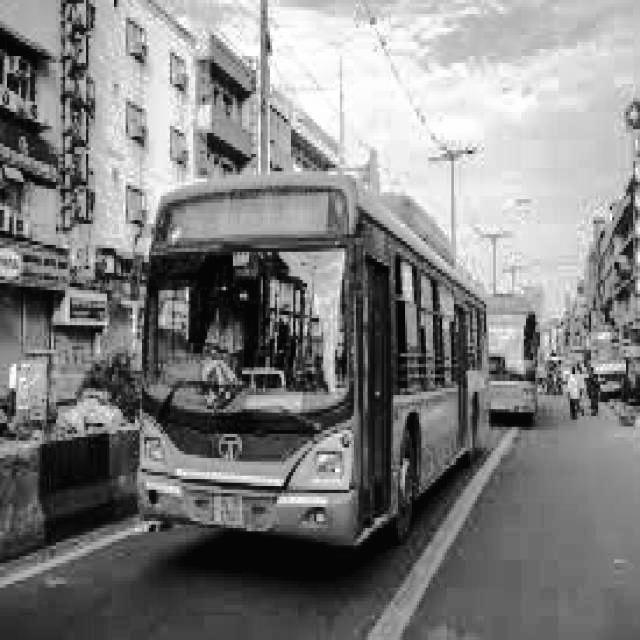Bus: (121, 135, 494, 585), (486, 264, 551, 439)
